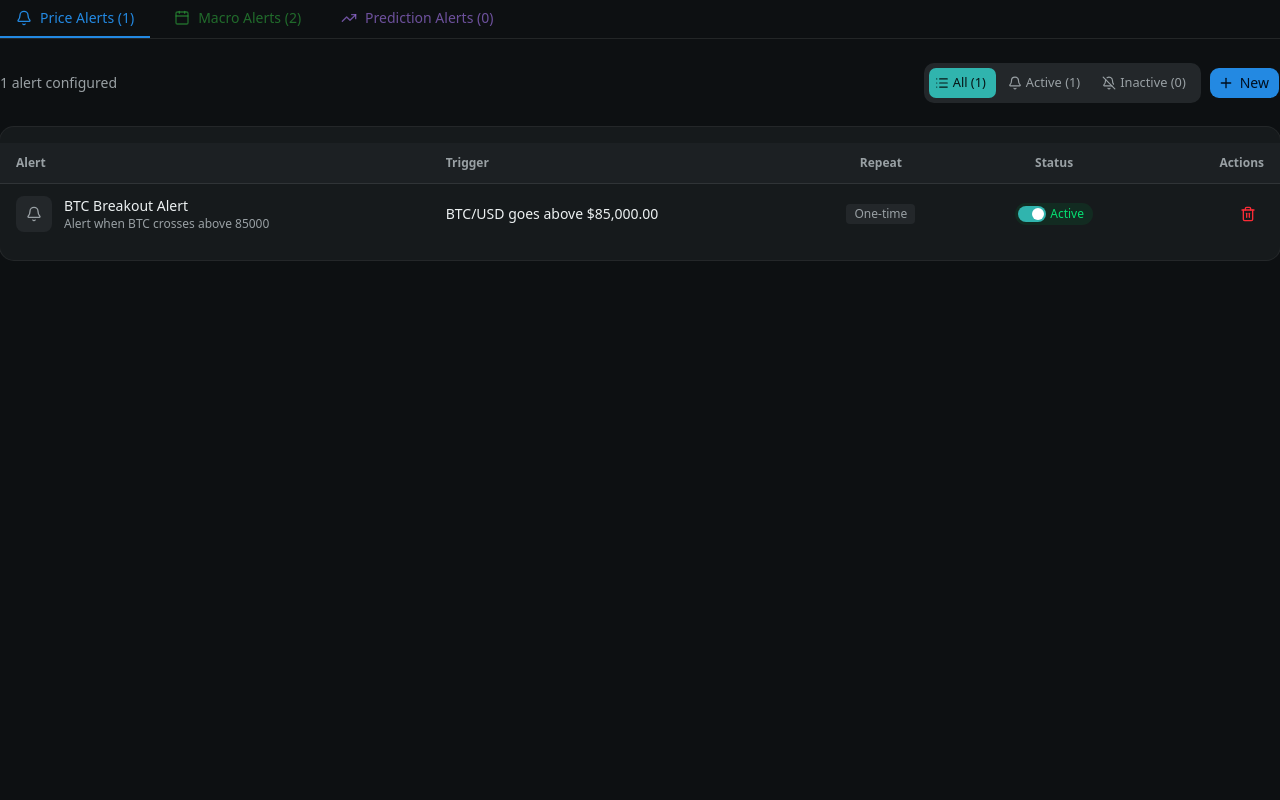
Test: AlertManagement › switches a mis-picked price alert to a macro event alert
Click the button with aria-label "New price alert".
click(1244, 83)  # box [1209,67,1279,99]
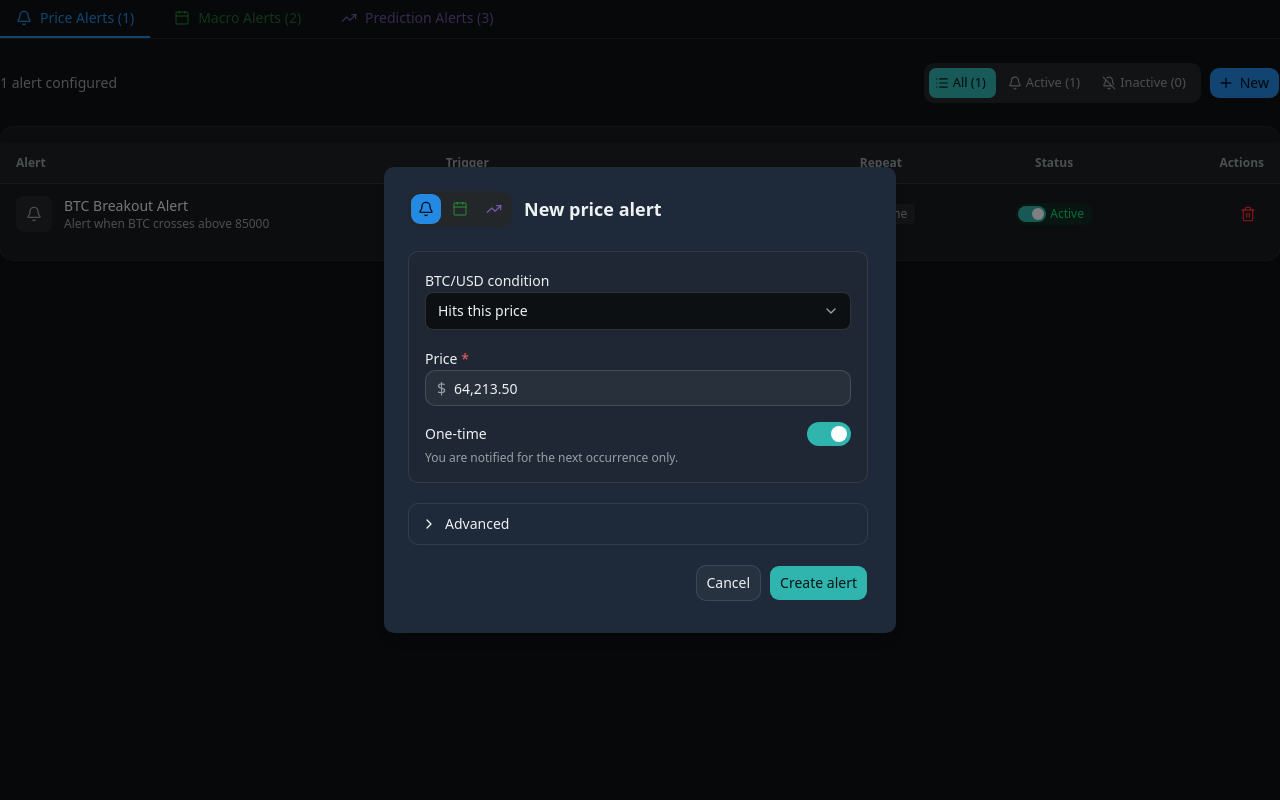
Result: the heading "New price alert" is shown at [524,195,662,223]
Click the button named "Macro event alert".
click(460, 209)  # box [444,193,476,225]
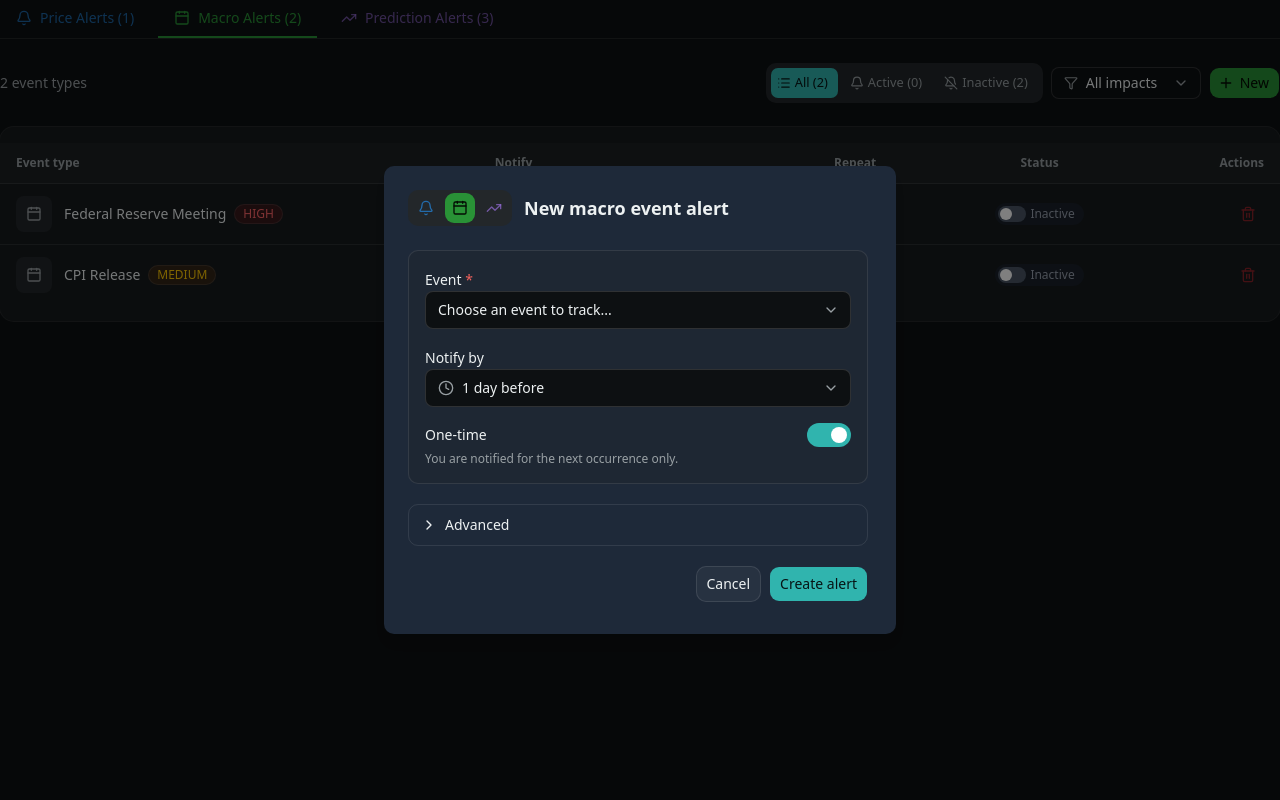
Result: the heading "New macro event alert" is shown at [524,194,729,222]
Result: the heading "New price alert" is gone
Result: the button "Choose an event to track..." is shown at [425,291,851,329]
